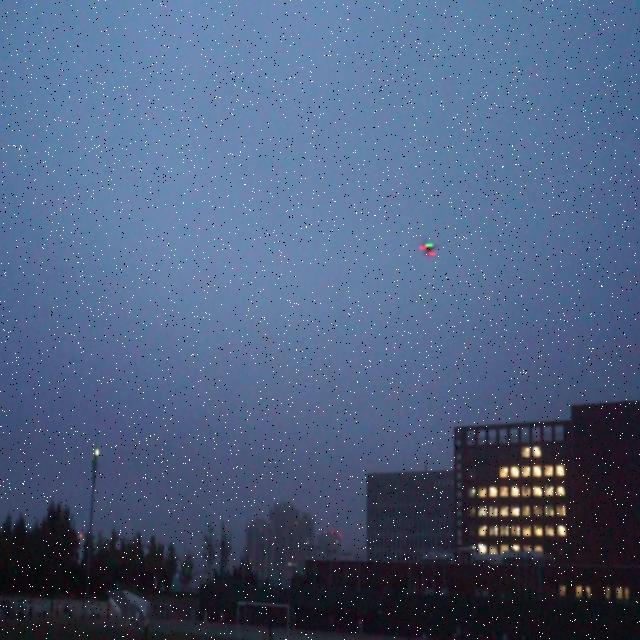UAV: (419, 242, 436, 258)
